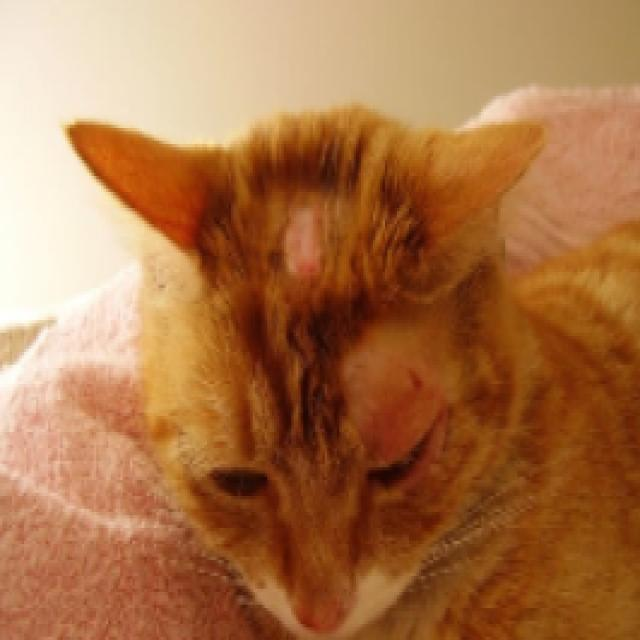hac lao: (262, 182, 341, 304)
